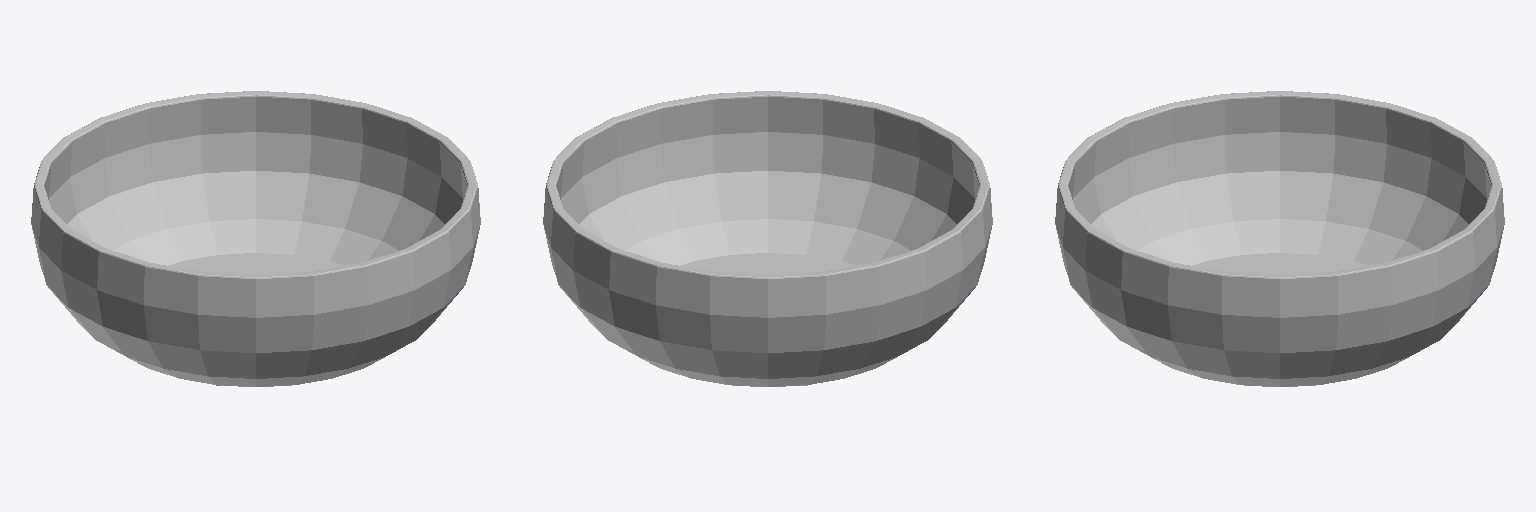
The model's file is flat-round-pot-001.obj.
The picture shows the model from 3 angles: view 1: azimuth 30°, elevation 25°; view 2: azimuth 150°, elevation 25°; view 3: azimuth 270°, elevation 25°; orthographic projection.
Visible parts, largest first — view 1: Pot; view 2: Pot; view 3: Pot.
Part boxes in pixels (bbox=[...]): Pot: bbox=[31, 91, 480, 386]; Pot: bbox=[543, 91, 992, 386]; Pot: bbox=[1055, 91, 1504, 386].
Bounding box in the file's own units: 0.2121 × 0.0748 × 0.2121.